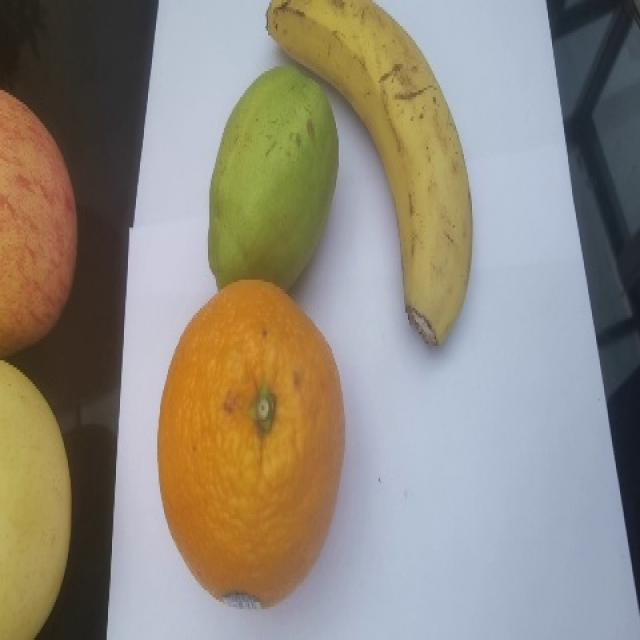Apple: (0, 87, 78, 359)
Banana: (264, 0, 473, 347)
Orange: (156, 278, 346, 609)
